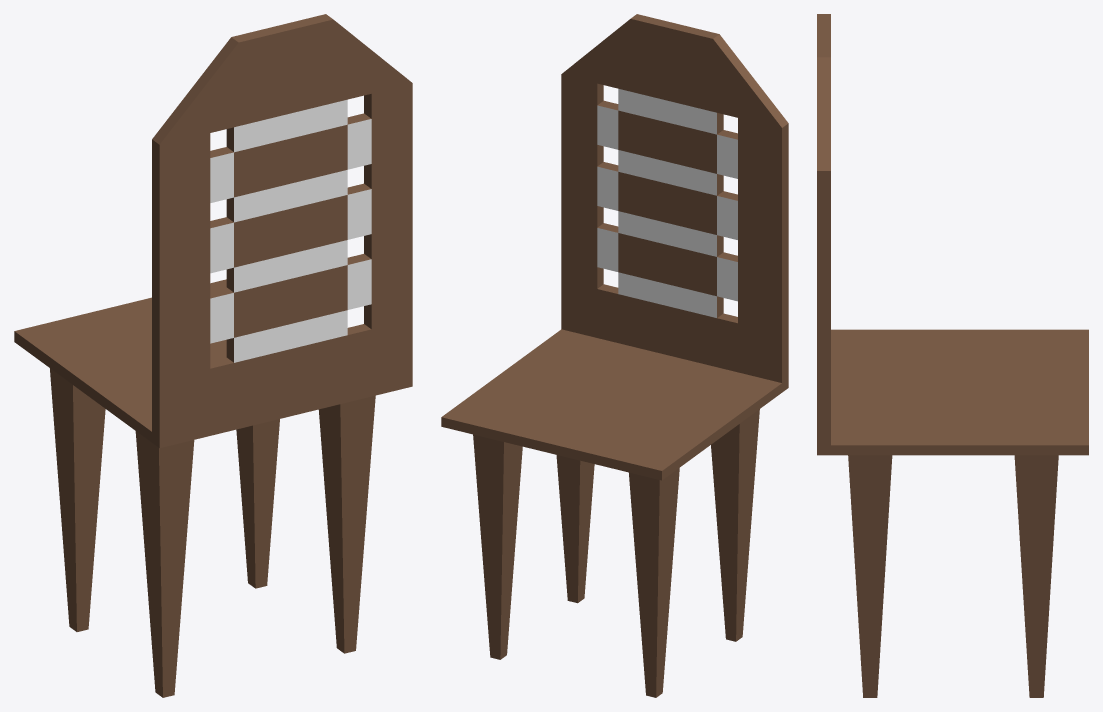
Rendered from Silla_Salón.fbx.
3 renders of one model, left to right at view 1: azimuth 30°, elevation 25°; view 2: azimuth 150°, elevation 25°; view 3: azimuth 270°, elevation 25°, orthographic. The views are drawn at different scales.
Parts seen in each view (by area): view 1: Silla; view 2: Silla; view 3: Silla.
Boxes of the visible parts, x1=… form: Silla: x1=14, y1=14, x2=412, y2=697; Silla: x1=441, y1=14, x2=788, y2=697; Silla: x1=817, y1=14, x2=1088, y2=697.
Size of the model in its own units: 37.69 by 94.05 by 37.44.
